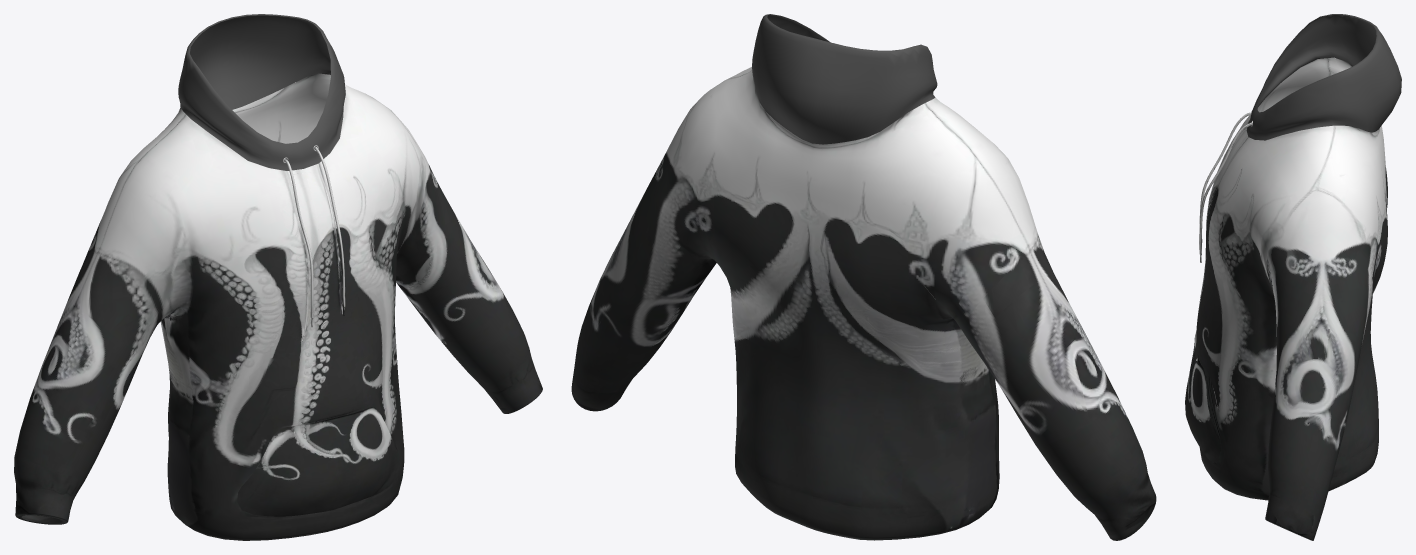
Rendered from Hoodie.glb.
3 renders of one model, left to right at view 1: azimuth 30°, elevation 25°; view 2: azimuth 150°, elevation 25°; view 3: azimuth 270°, elevation 25°, orthographic. The views are drawn at different scales.
Visible parts, largest first — view 1: Mesh_0_primitive1; view 2: Mesh_0_primitive1; view 3: Mesh_0_primitive1.
Part boxes in pixels (x1,y1,x2,y2): Mesh_0_primitive1: (14,14,542,540); Mesh_0_primitive1: (571,14,1156,540); Mesh_0_primitive1: (1185,14,1401,540).
Size of the model in its own units: 0.8855 by 0.7306 by 0.3411.
2 materials, 1 textured.
